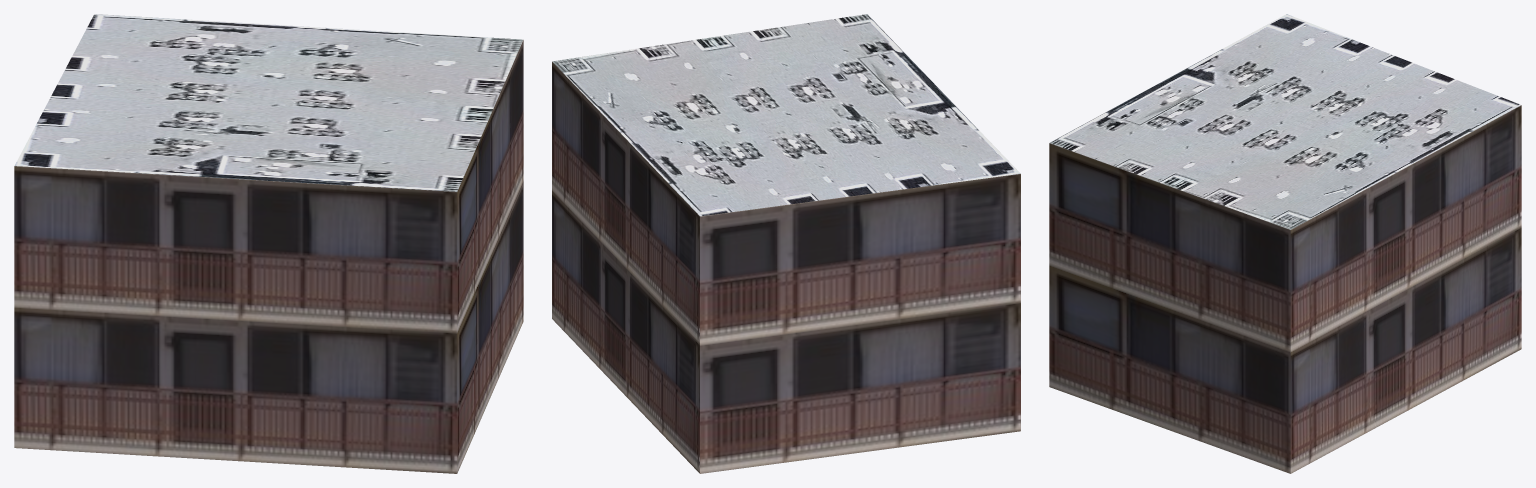
The model's file is ResTex__4634.fbx.
3 views of the same model, side by side, from view 1: azimuth 30°, elevation 25°; view 2: azimuth 150°, elevation 25°; view 3: azimuth 270°, elevation 25° (orthographic). The views are drawn at different scales.
Parts seen in each view (by area): view 1: CityEngineMaterial_6_m, CityEngineMaterial_8_m; view 2: CityEngineMaterial_6_m, CityEngineMaterial_8_m; view 3: CityEngineMaterial_6_m, CityEngineMaterial_8_m.
Part boxes in pixels (x1,y1,x2,y2): CityEngineMaterial_6_m: [14, 40, 523, 473]; CityEngineMaterial_8_m: [14, 14, 522, 191]; CityEngineMaterial_6_m: [552, 62, 1020, 473]; CityEngineMaterial_8_m: [552, 14, 1020, 216]; CityEngineMaterial_6_m: [1049, 105, 1521, 473]; CityEngineMaterial_8_m: [1050, 14, 1521, 229].
Size of the model in its own units: 11.38 by 6 by 10.53.
Materials: 2 (2 with a texture image).
